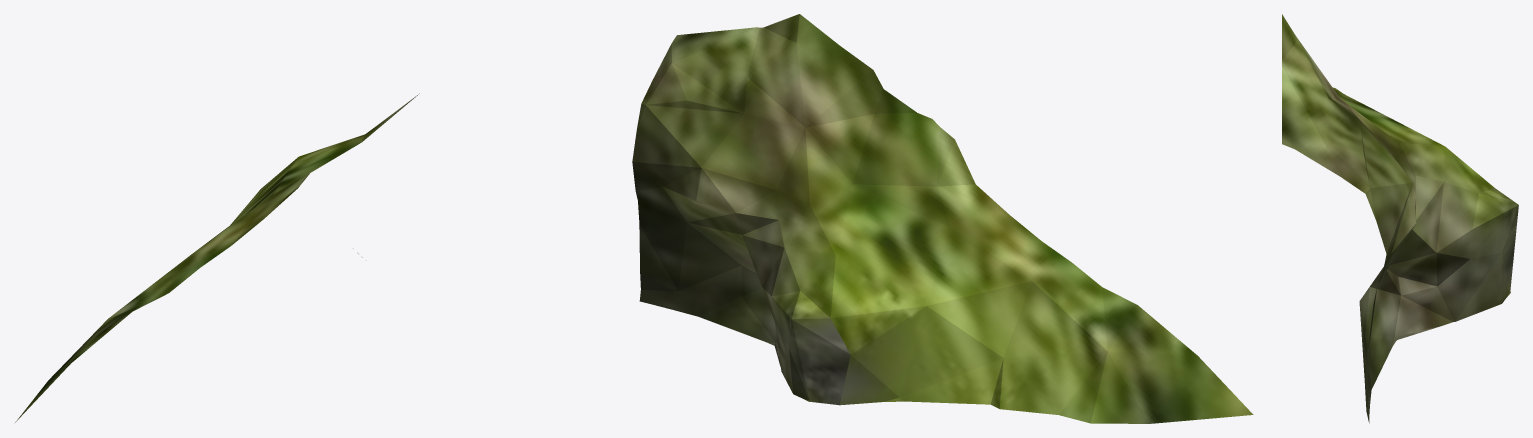
3 views of the same model, side by side, from view 1: azimuth 30°, elevation 25°; view 2: azimuth 150°, elevation 25°; view 3: azimuth 270°, elevation 25° (orthographic). The views are drawn at different scales.
Bounding box in the file's own units: 0.9366 × 0.4503 × 0.2846.
Materials: 1 (1 with a texture image).
